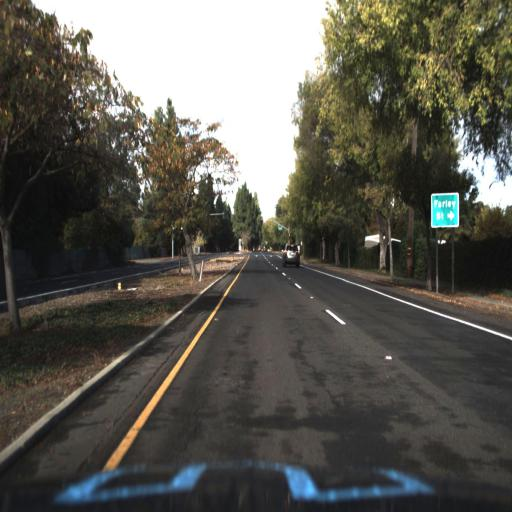car: (282, 240, 302, 269)
